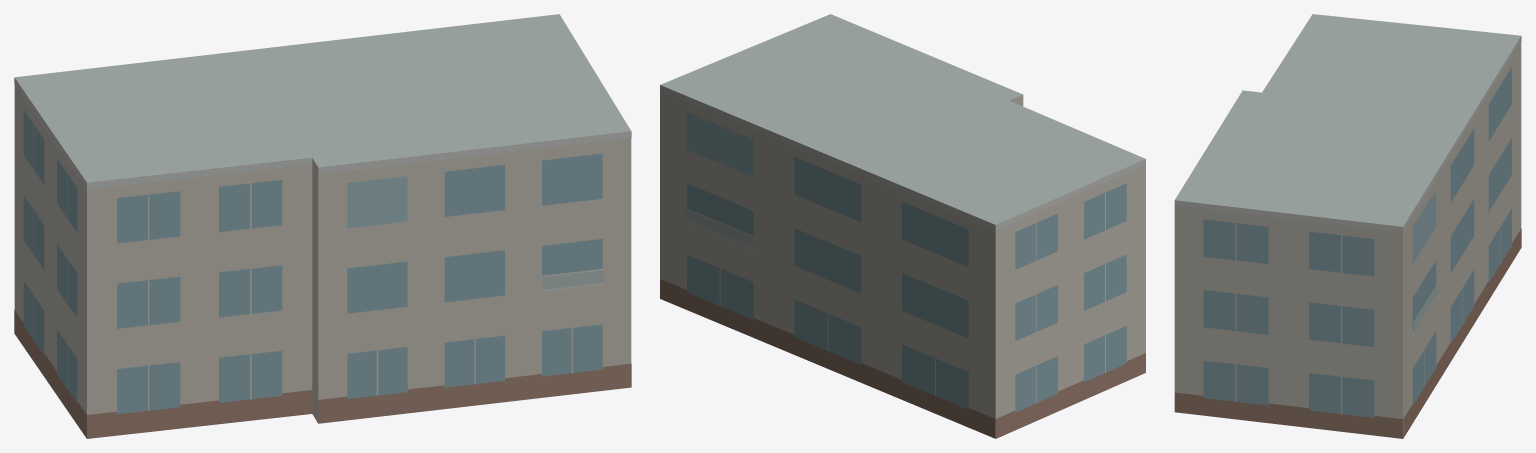
File: survey-upis-32718308.glb
The picture shows the model from 3 angles, left to right: view 1: azimuth 30°, elevation 25°; view 2: azimuth 150°, elevation 25°; view 3: azimuth 270°, elevation 25°; orthographic projection. The views are drawn at different scales.
Visible parts, largest first — view 1: survey-upis-32718308.tmp; view 2: survey-upis-32718308.tmp; view 3: survey-upis-32718308.tmp.
Boxes of the visible parts, box(x1,y1,x2,y2) form: survey-upis-32718308.tmp: box(14, 14, 631, 438); survey-upis-32718308.tmp: box(660, 14, 1145, 438); survey-upis-32718308.tmp: box(1174, 14, 1521, 438).
Size of the model in its own units: 19.72 by 9.15 by 13.58.
